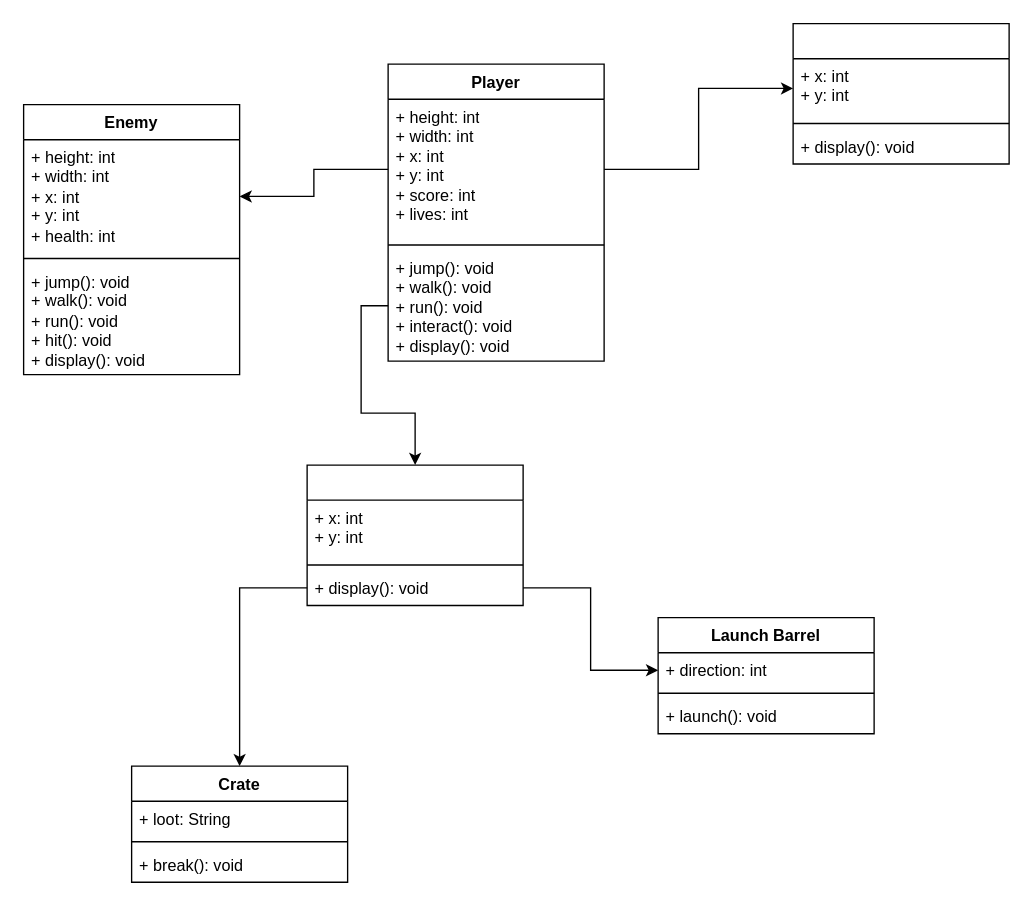
This 1033x910 diagram has some shape labels left out. Each missing label, with the box of its shape:
Coin: (792, 22, 1009, 164)
Level Object: (306, 464, 523, 605)
